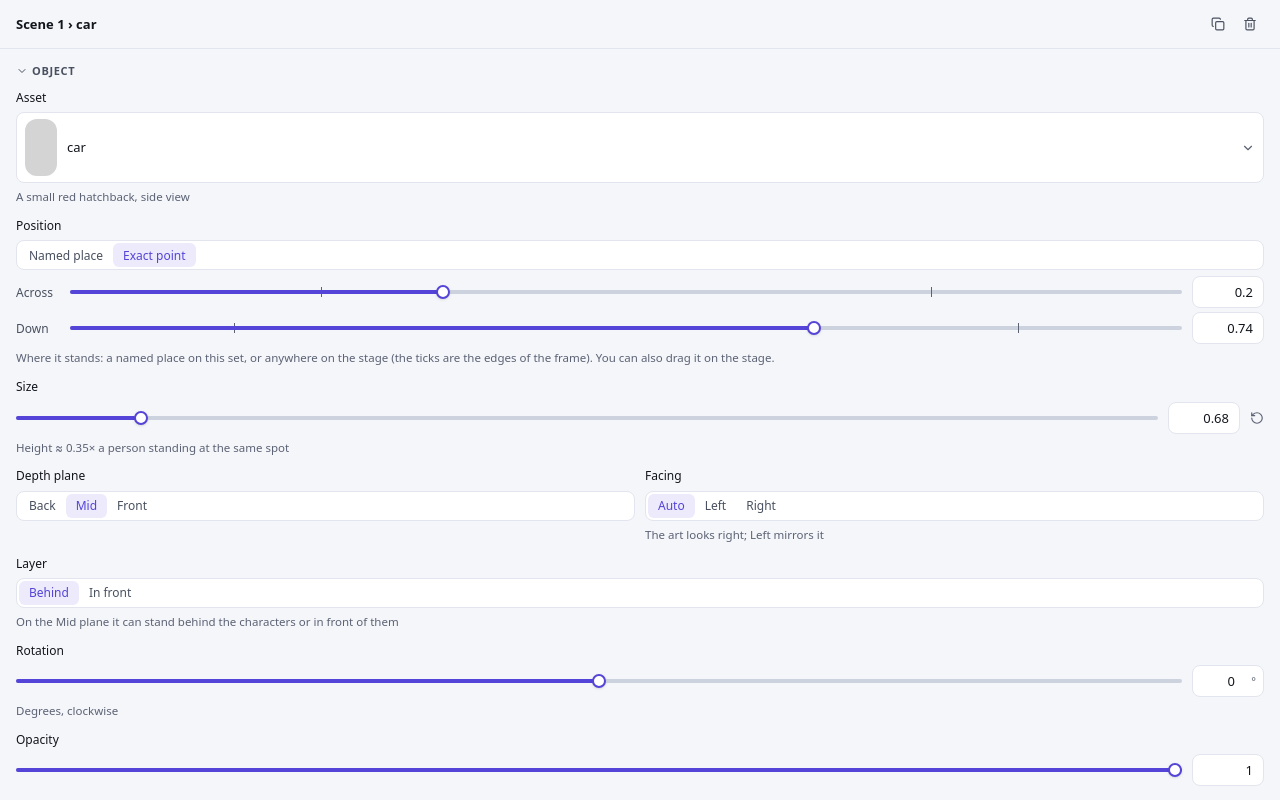
Test case: the inspector of an object › takes another drawing from the searchable list and keeps its place, size and times
Click the button with aria-label "asset: car". click: x=41, y=148
box: [16, 112, 1264, 183]
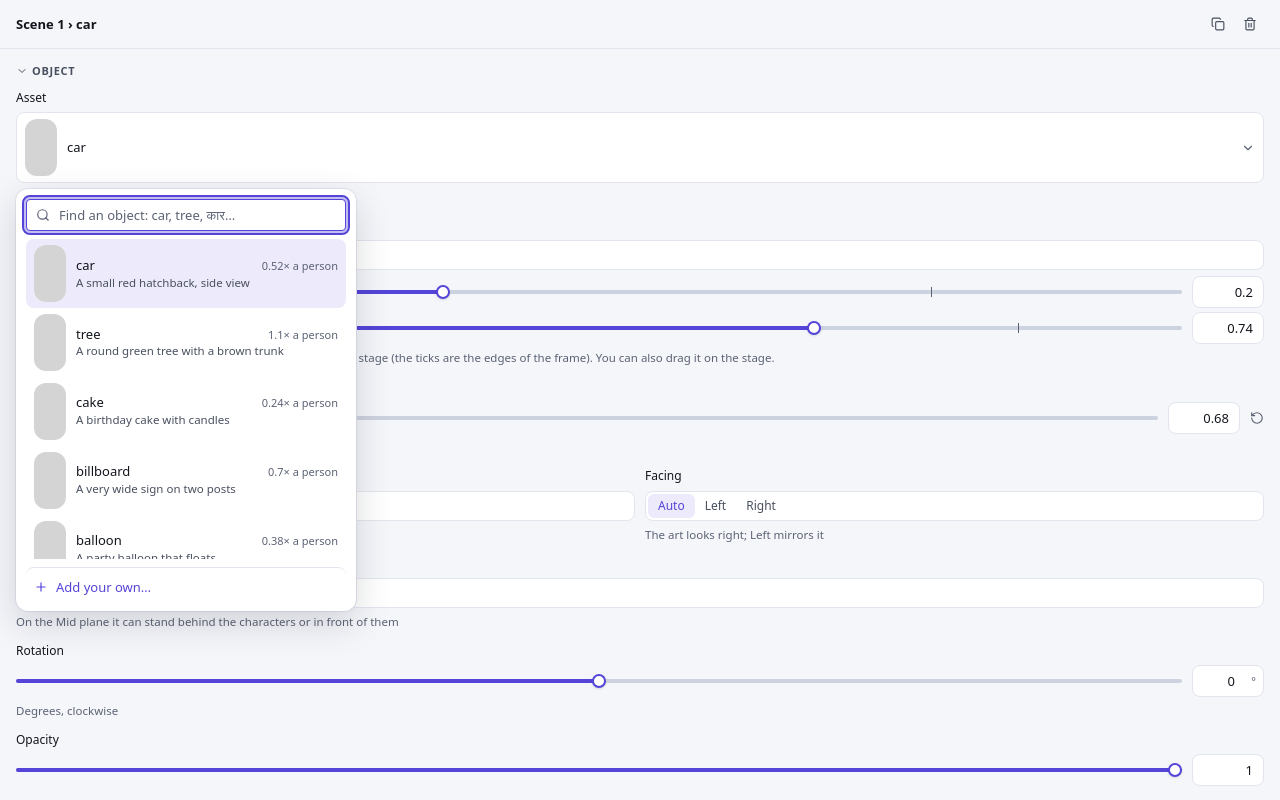
Type "पेड़" into the field labelled "Find an object". click: x=186, y=215
box: [26, 199, 346, 231]
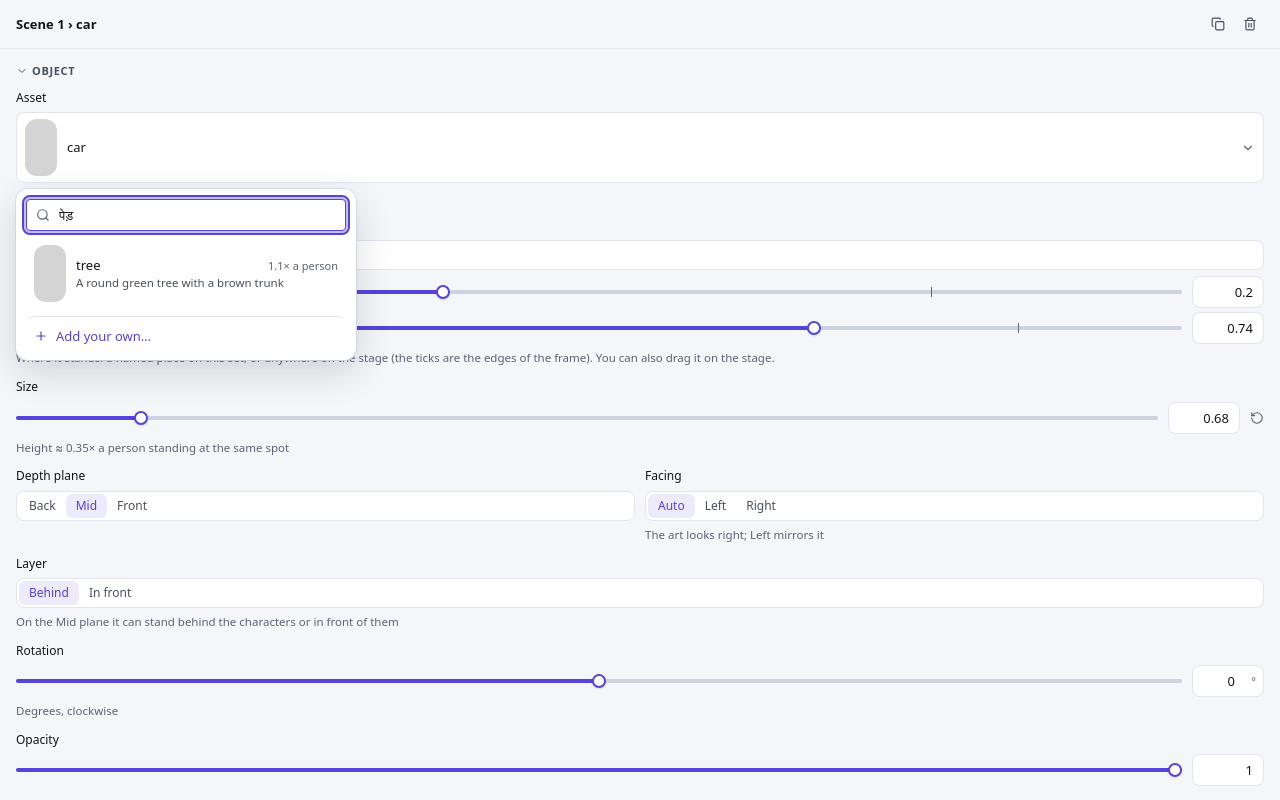
Click the button "tree 1.1× a person A round green tree with a brown trunk". click: x=186, y=273
box: [26, 239, 346, 308]
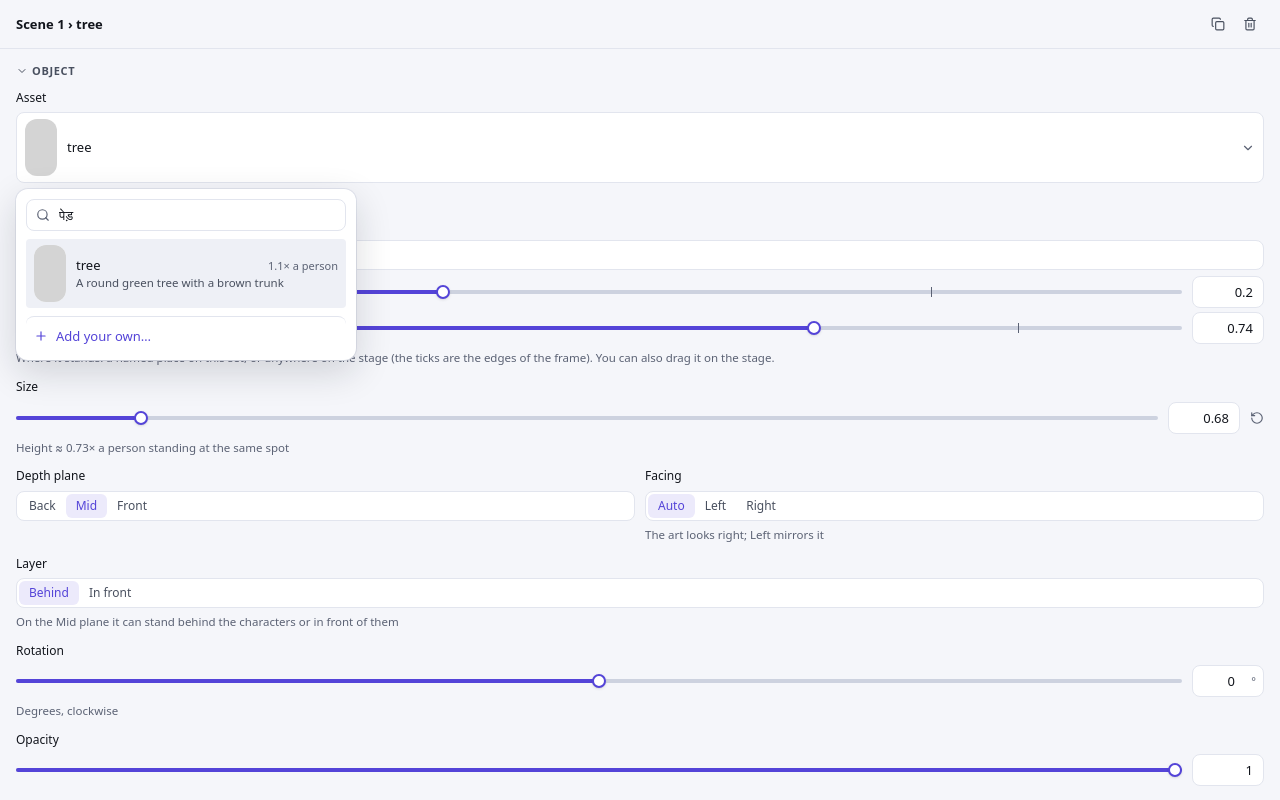
Expected: the heading "Scene 1 › tree" is shown, [16, 15, 103, 33]
